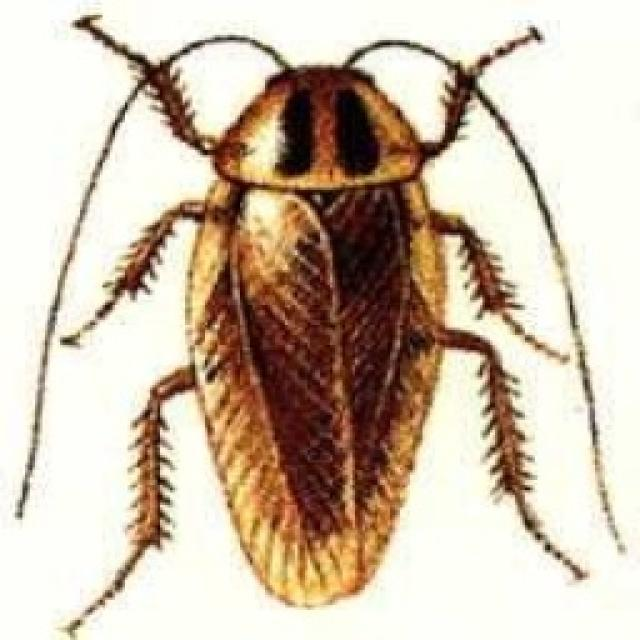cockroach: (14, 15, 626, 631)
